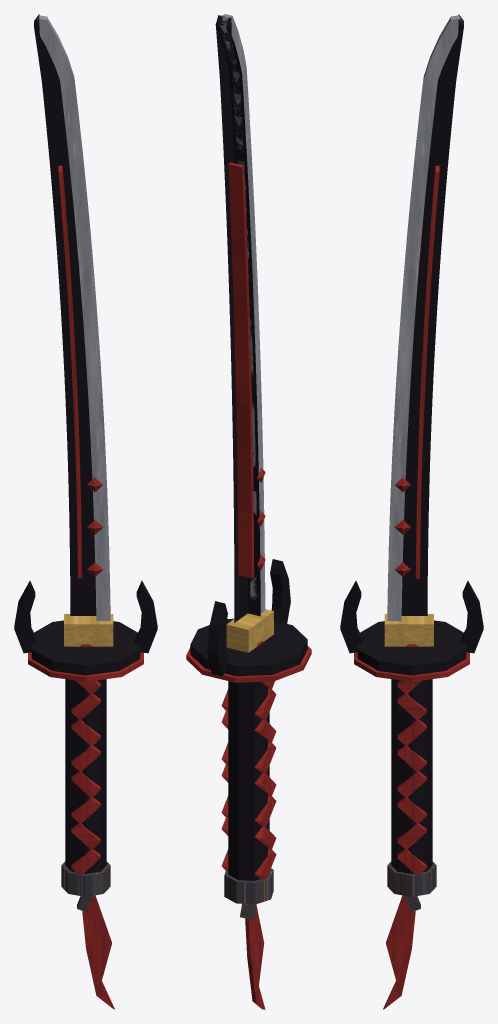
The model's file is demon_katana.obj.
The picture shows the model from 3 angles, left to right: view 1: azimuth 90°, elevation 25°; view 2: azimuth 150°, elevation 25°; view 3: azimuth 270°, elevation 25°; orthographic projection. The views are drawn at different scales.
Visible parts, largest first — view 1: demon_katana; view 2: demon_katana; view 3: demon_katana.
Part boxes in pixels (left/top/right/bottom): demon_katana: left=14, top=14, right=157, bottom=1009; demon_katana: left=186, top=14, right=311, bottom=1009; demon_katana: left=340, top=14, right=483, bottom=1009.
Size of the model in its own units: 0.2938 by 2.63 by 0.3438.
